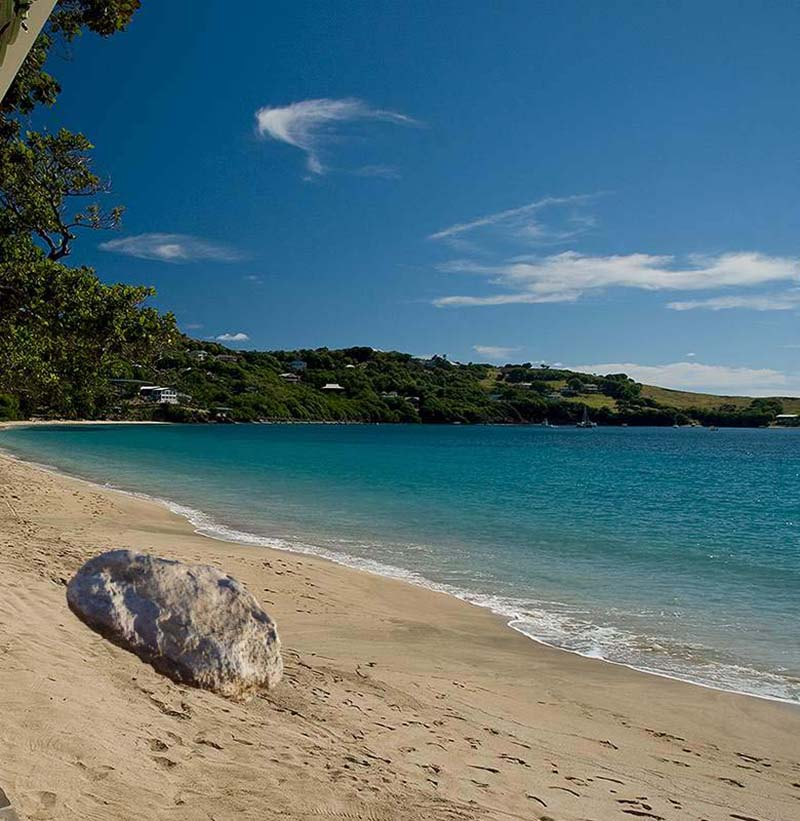Rocks: (55, 538, 299, 699)
